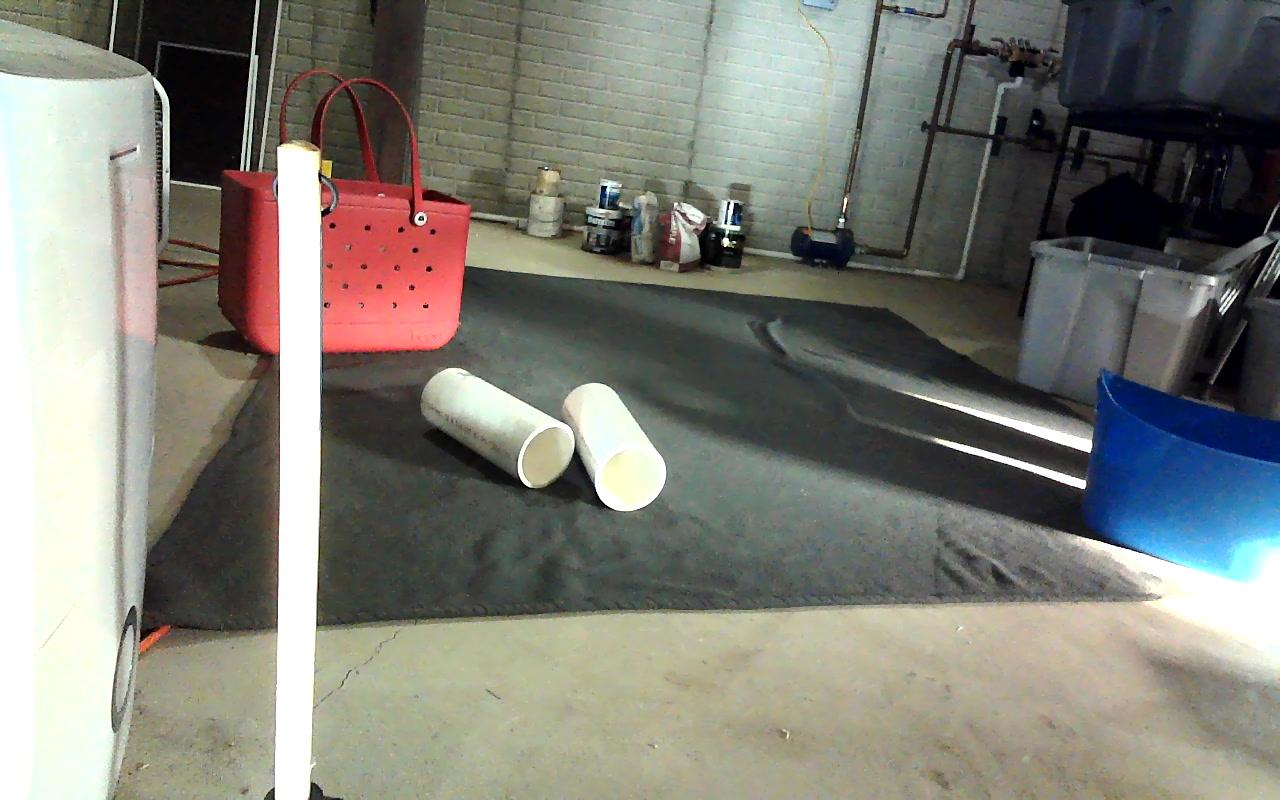coral: (422, 368, 575, 489), (560, 383, 666, 512)
